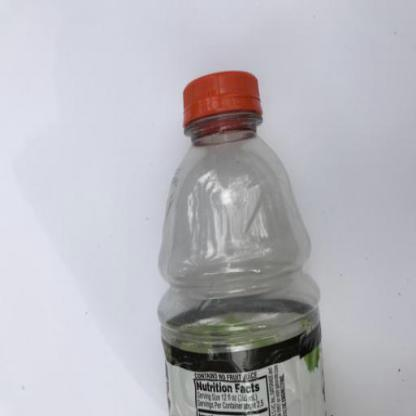Plastic: (154, 68, 333, 415)
